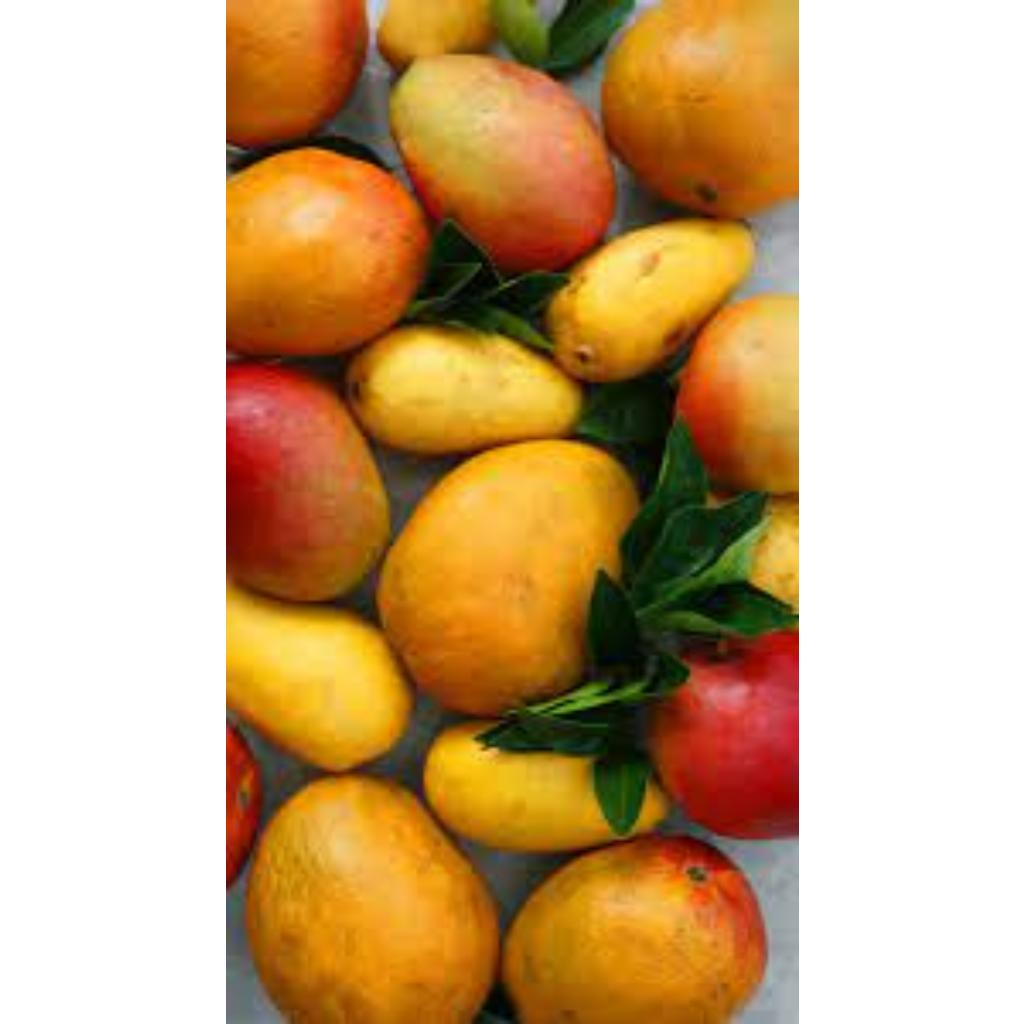mango: (232, 769, 503, 1024), (392, 444, 641, 720), (488, 824, 787, 1024), (385, 52, 626, 264), (592, 0, 798, 220), (226, 148, 428, 350), (225, 365, 384, 616), (531, 221, 762, 383), (626, 635, 796, 840), (226, 582, 408, 770), (409, 711, 669, 840), (345, 340, 600, 466), (670, 285, 798, 494)
